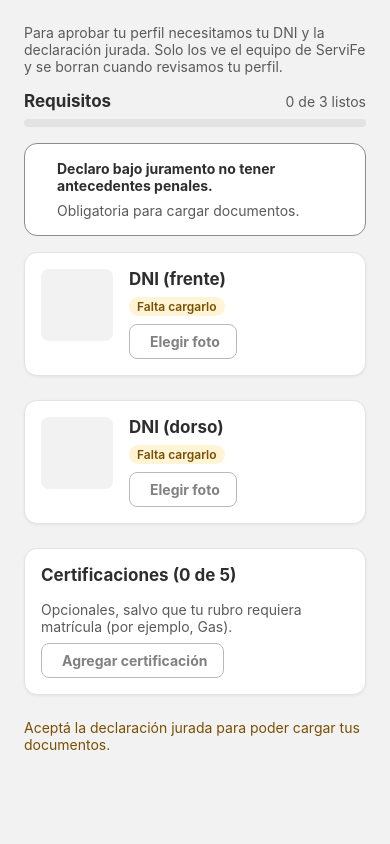
Test: DocumentosScreen › con la declaración tildada sube el DNI, avisa, muestra la miniatura y avanza el progreso
The image size is (390, 844).
Click the checkbox labelled "Declaro bajo juramento no tener antecedentes penales." at (195, 190), box [24, 143, 366, 236]
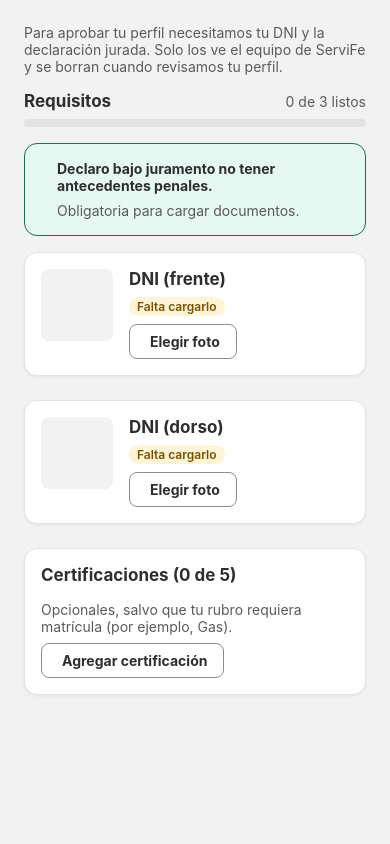
Click the button "Elegir foto" below "DNI (frente)" at (183, 342), box [129, 324, 237, 359]
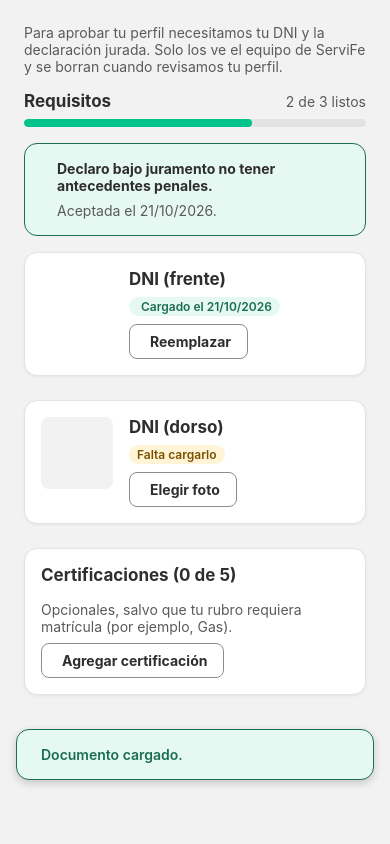
Now the text "Documento cargado." is shown, box [41, 746, 183, 763]
Now the text "Cargado el 21/10/2026" is shown, box [141, 299, 272, 314]
Now the text "2 de 3 listos" is shown, box [286, 92, 366, 110]
